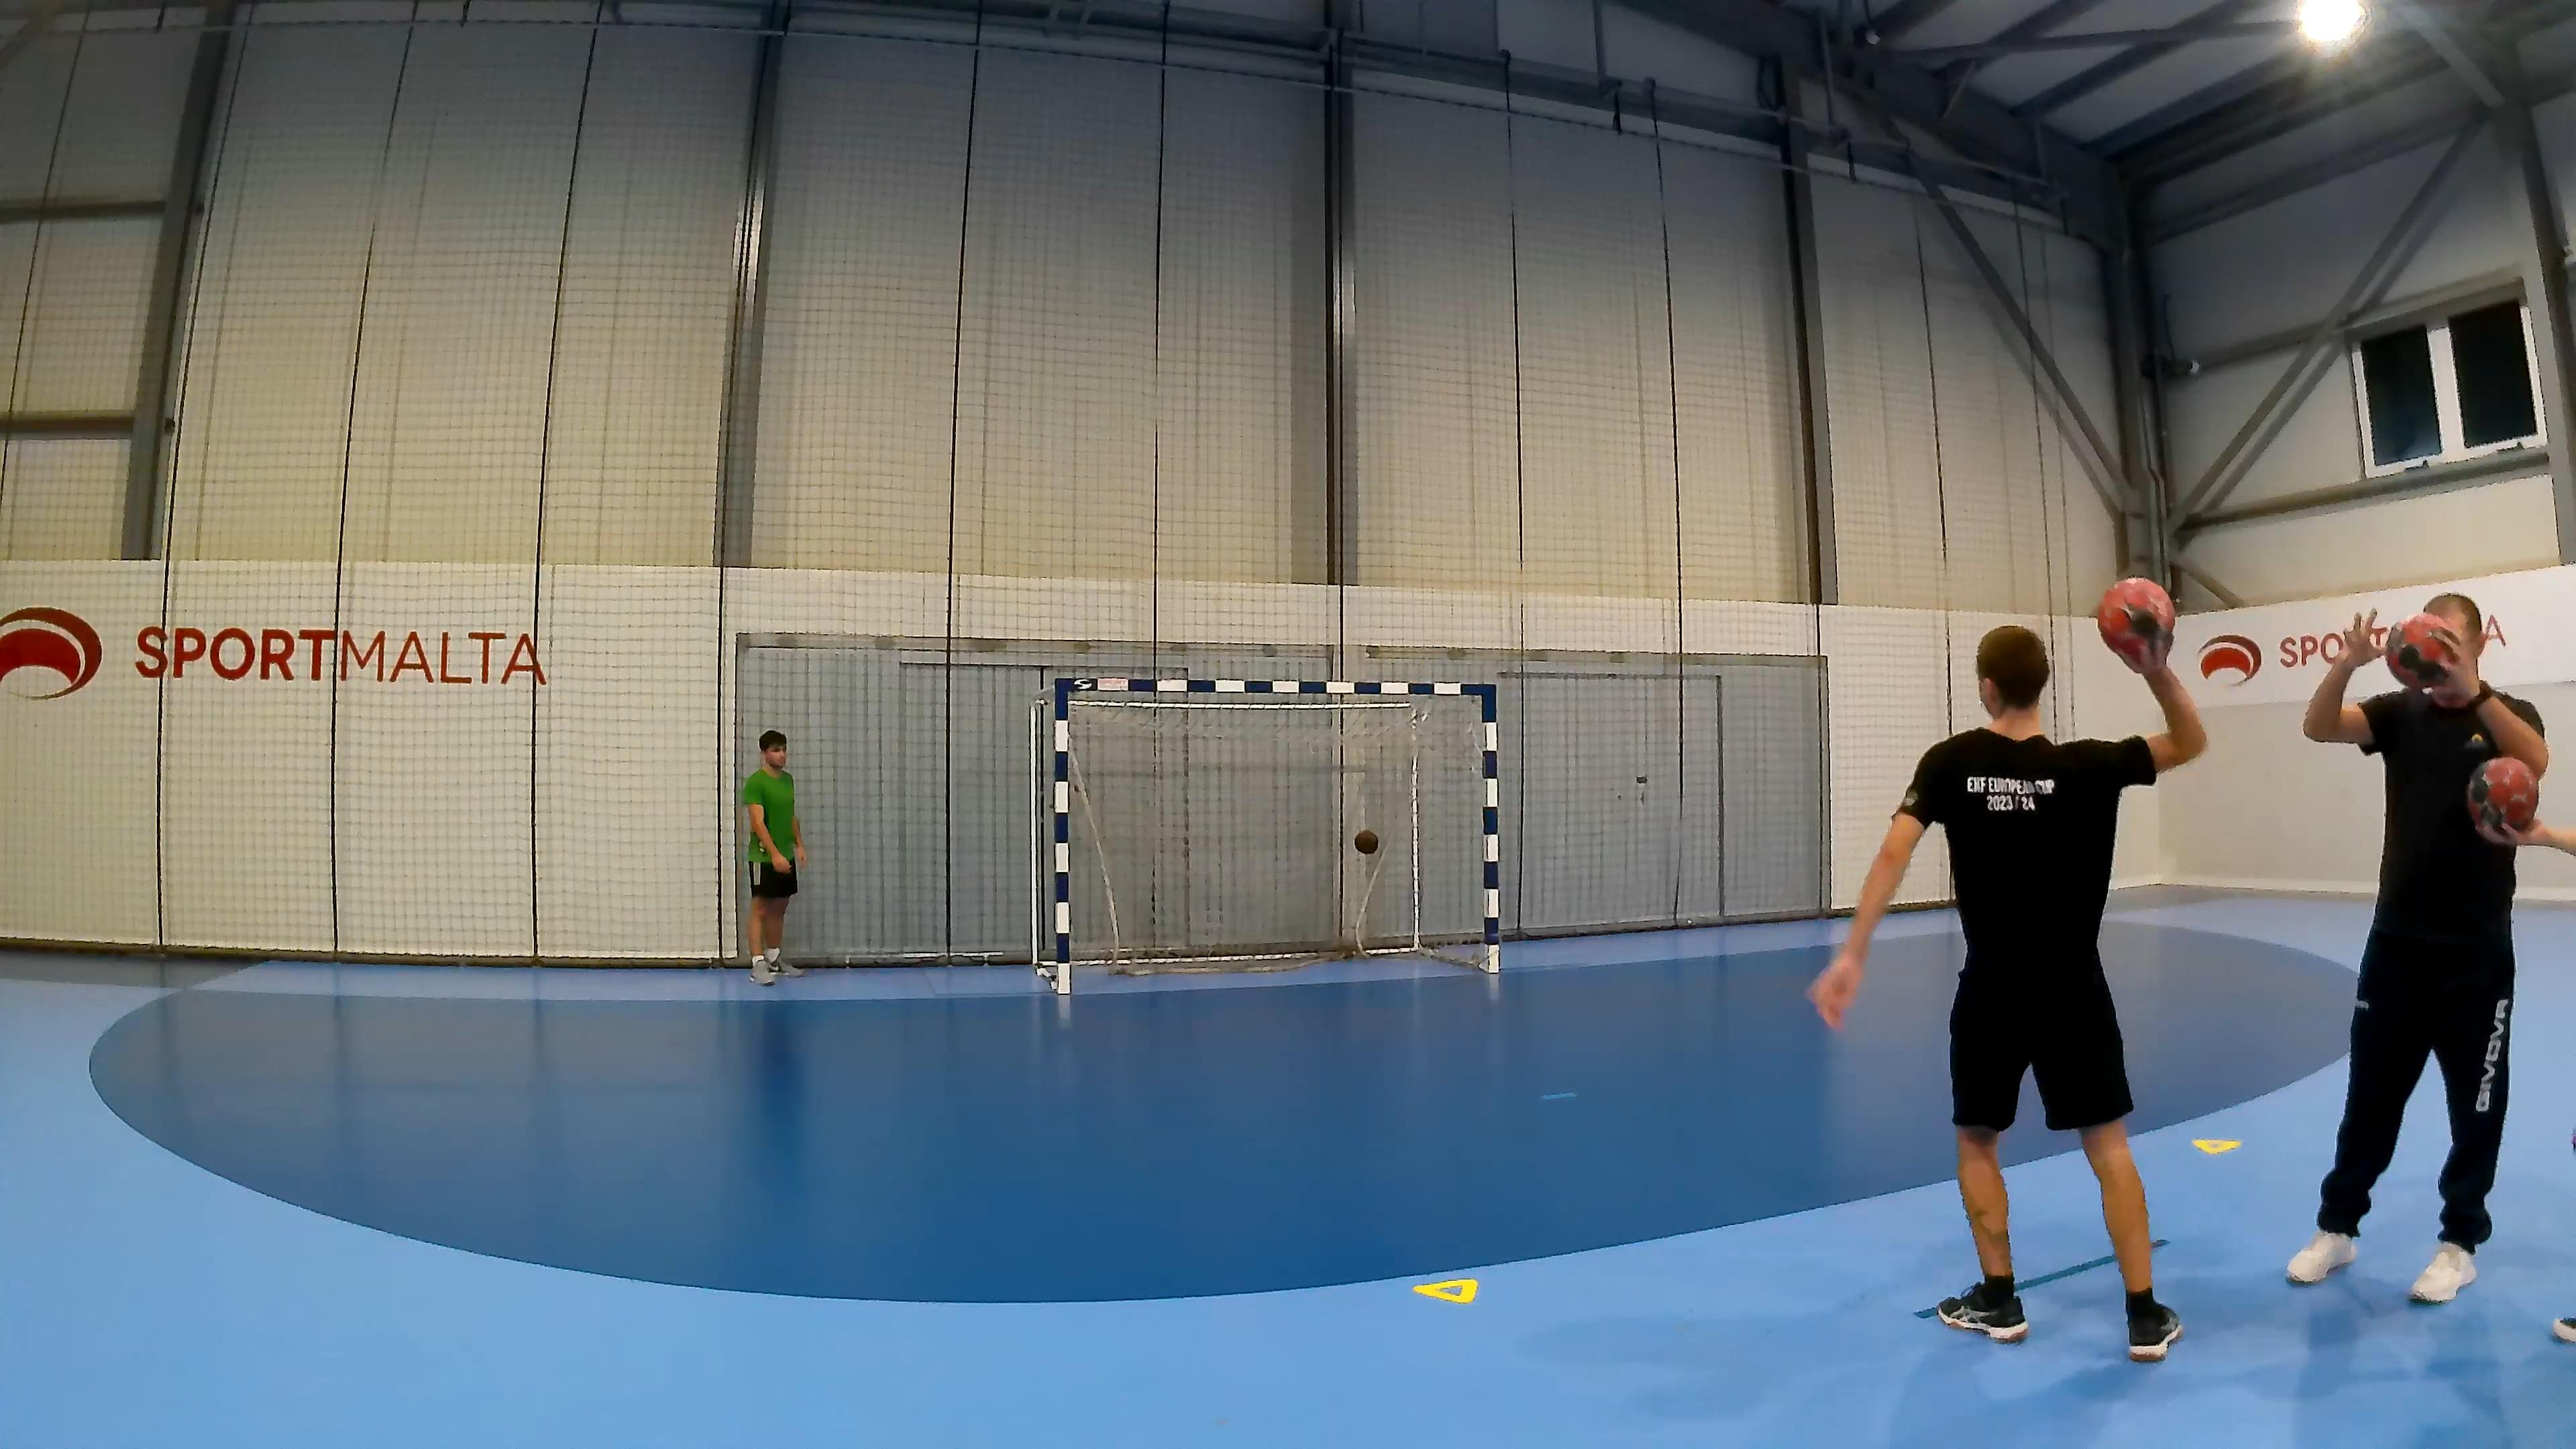handball: (2095, 575, 2174, 667), (2383, 612, 2461, 692), (2466, 755, 2537, 837), (1350, 823, 1387, 863)
